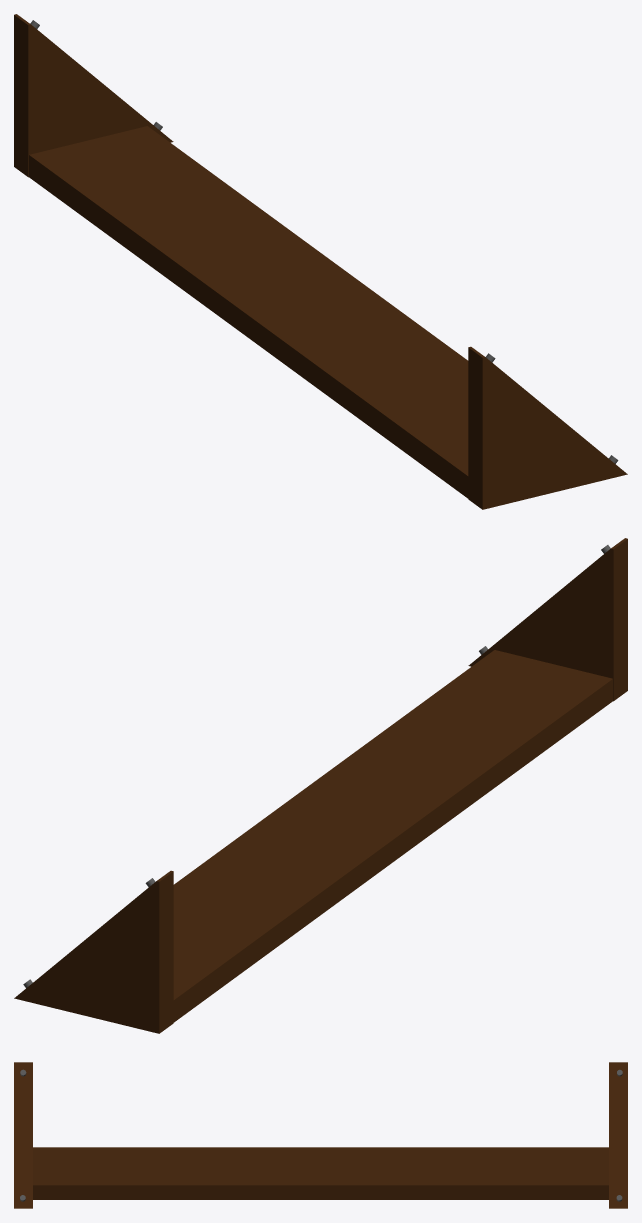
The model's file is Riiul.fbx.
3 views of the same model, one above another, from view 1: azimuth 30°, elevation 25°; view 2: azimuth 150°, elevation 25°; view 3: azimuth 270°, elevation 25° (orthographic). The views are drawn at different scales.
Visible parts, largest first — view 1: Cube, Cube.001, Cube.002; view 2: Cube, Cube.002, Cube.001; view 3: Cube, Cube.001, Cube.002.
Part boxes in pixels (box(x1,y1,x2,y2)): Cube: box(29, 126, 468, 498); Cube.001: box(468, 346, 627, 509); Cube.002: box(14, 14, 173, 177); Cube: box(173, 650, 612, 1022); Cube.002: box(14, 870, 173, 1033); Cube.001: box(468, 538, 627, 701); Cube: box(33, 1147, 608, 1199); Cube.001: box(14, 1062, 32, 1208); Cube.002: box(609, 1062, 627, 1208).
Bounding box in the file's own units: 119 × 119 × 667.
